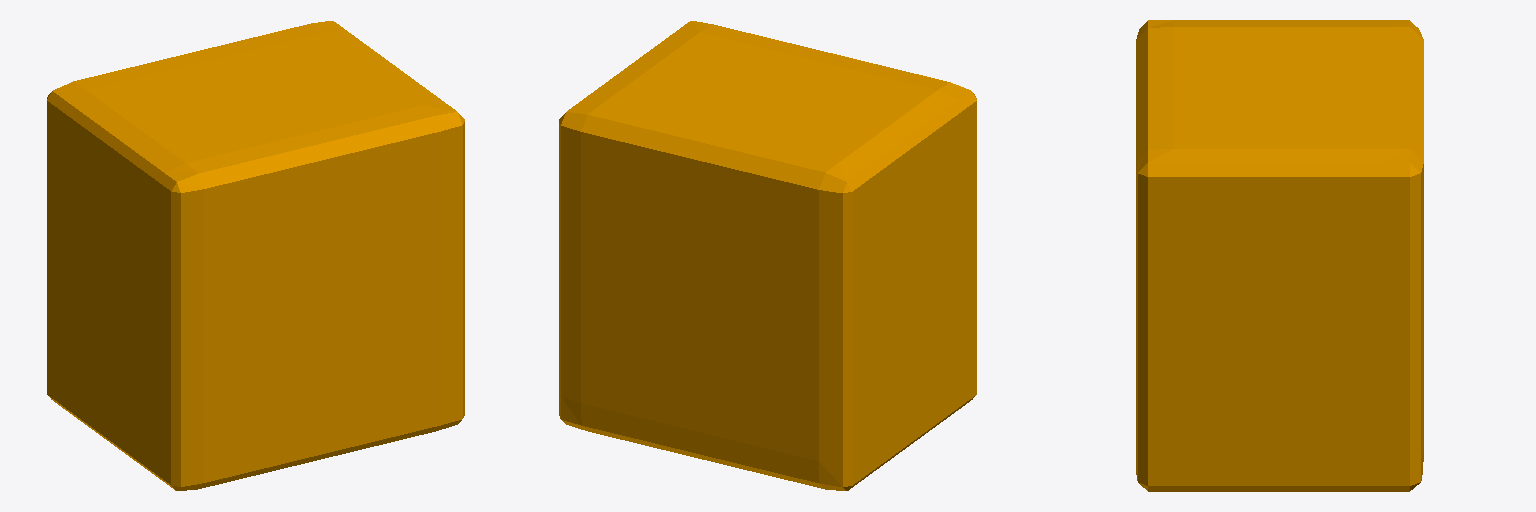
The robot description file, URDF, robot "cylinder_box_46":
<?xml version="1.0" encoding="utf-8"?>  <robot name="cylinder_box_46">   <link name="cylinder_box_46">     <visual>       <geometry>         <mesh filename="../meshes/box/box_46.stl" scale="1 1 1"/>       </geometry>     </visual>     <collision>       <geometry>         <mesh filename="../meshes/box/box_46.stl" scale="1 1 1"/>       </geometry>     </collision>     <inertial>        <origin         xyz="0 0 0"         rpy="0 0 0" />       <mass value="0.2590095539070821"/>       <origin rpy="0 0 0" xyz="0 0 0"/>       <inertia ixx="0.00016900030530817416" ixy="6.957459292107348e-09" ixz="5.248051638282419e-09" iyy="0.00020330415635421293" iyz="-5.839335204038256e-08" izz="0.00016275651054311973"/>     </inertial>   </link>  </robot>

--- Render facts (derived) ---
Views: 3 orthographic renders of the robot side by side, from view 1: azimuth 30°, elevation 25°; view 2: azimuth 150°, elevation 25°; view 3: azimuth 270°, elevation 25°.
Robot: cylinder_box_46 — 1 links, 0 joints (none); root link cylinder_box_46; default pose: all joints at 0.
Visible links, largest first — view 1: cylinder_box_46; view 2: cylinder_box_46; view 3: cylinder_box_46.
Boxes of the visible links, bbox=[...] form: cylinder_box_46: bbox=[47, 21, 464, 490]; cylinder_box_46: bbox=[559, 21, 976, 490]; cylinder_box_46: bbox=[1136, 20, 1423, 491].
Bounding box of the posed robot: 0.068 × 0.0549 × 0.0701 m (x, y, z).
Meshes: 1 distinct files referenced, 1 mesh visuals loaded (1 binary STL).